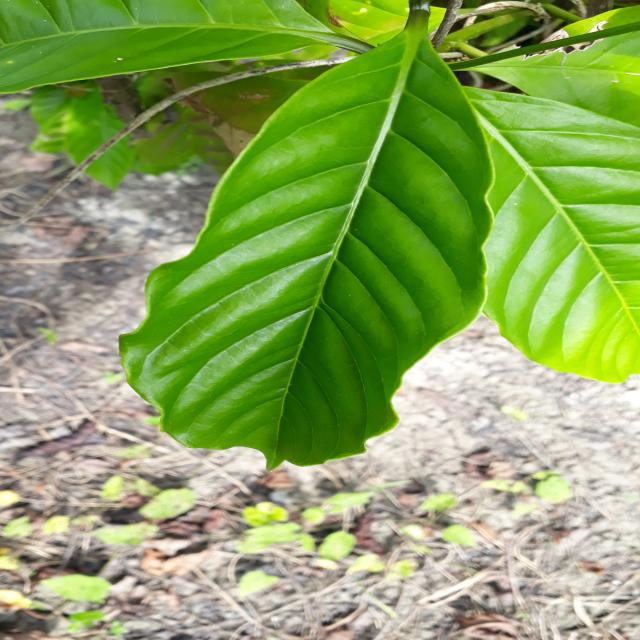Sanas: (117, 3, 500, 471)
